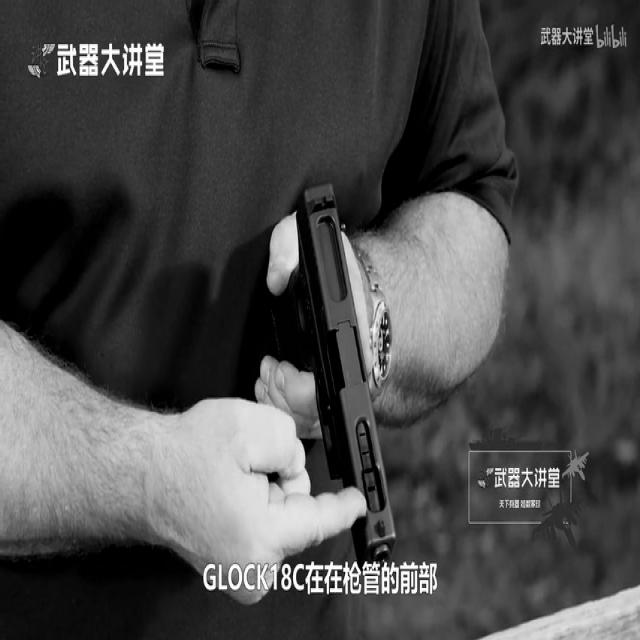Hand-Gun: (222, 85, 488, 640)
